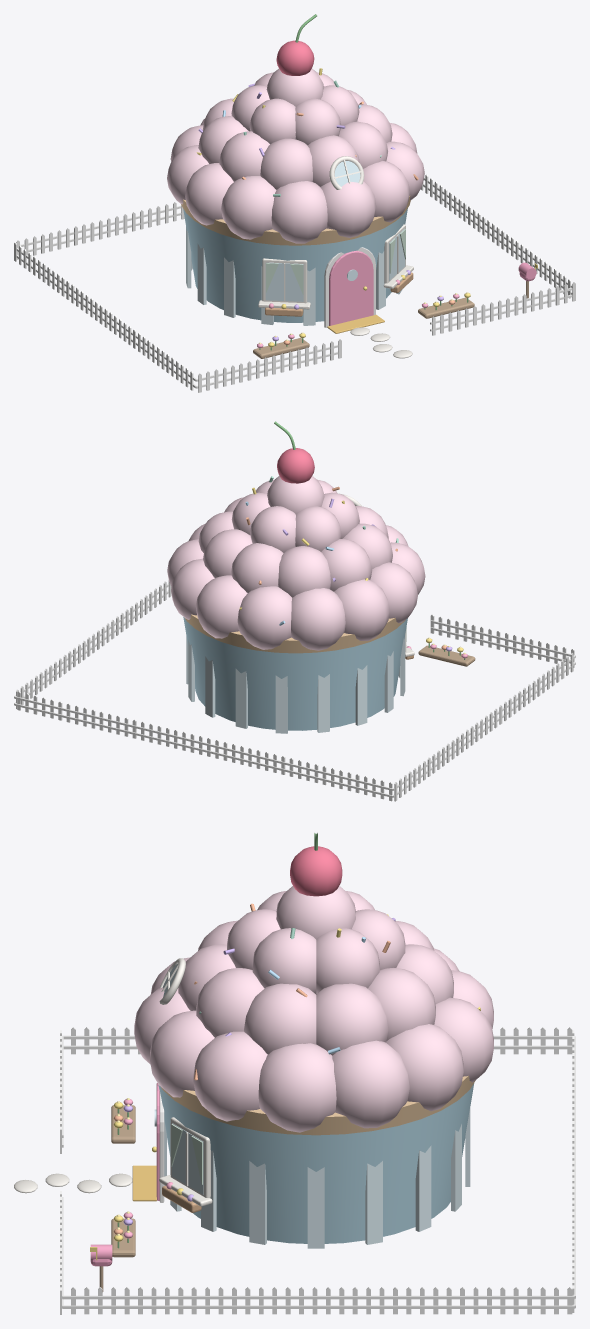
The model's file is building_sweets_L07.glb.
3 views of the same model, one above another, from view 1: azimuth 30°, elevation 25°; view 2: azimuth 150°, elevation 25°; view 3: azimuth 270°, elevation 25° (orthographic). The views are drawn at different scales.
Visible parts, largest first — view 1: Body, sweets_L7; view 2: Body, sweets_L7; view 3: Body, sweets_L7.
Part boxes in pixels (left/top/right/bottom): Body: left=167, top=14, right=424, bottom=333; sweets_L7: left=14, top=174, right=575, bottom=392; Body: left=167, top=421, right=425, bottom=733; sweets_L7: left=14, top=580, right=575, bottom=801; Body: left=132, top=833, right=493, bottom=1248; sweets_L7: left=14, top=1027, right=575, bottom=1314.
Bounding box in the file's own units: 25.35 × 16.74 × 23.04.
